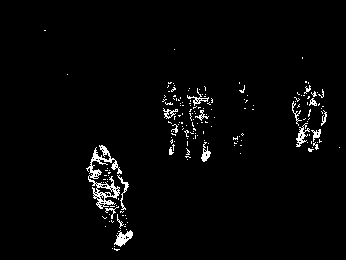person: (85, 142, 135, 250), (289, 79, 316, 151), (191, 84, 214, 161), (160, 79, 180, 156), (306, 85, 328, 154), (176, 85, 192, 160)
